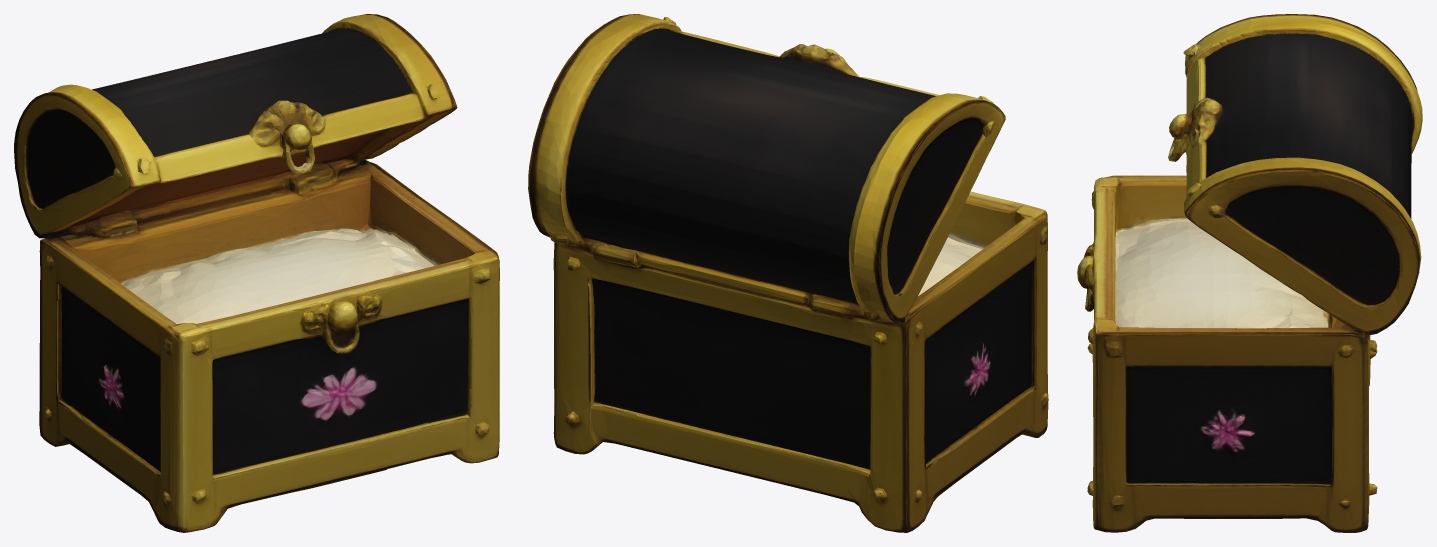
Rendered from chest.fbx.
3 views of the same model, side by side, from view 1: azimuth 30°, elevation 25°; view 2: azimuth 150°, elevation 25°; view 3: azimuth 270°, elevation 25° (orthographic). The views are drawn at different scales.
Visible parts, largest first — view 1: geometry_0; view 2: geometry_0; view 3: geometry_0.
Boxes of the visible parts, <box> form: geometry_0: <box>14,14,499,532</box>; geometry_0: <box>528,14,1048,532</box>; geometry_0: <box>1077,14,1422,532</box>.
Size of the model in its own units: 0.4831 by 0.4983 by 0.4312.
1 material, 1 textured.
